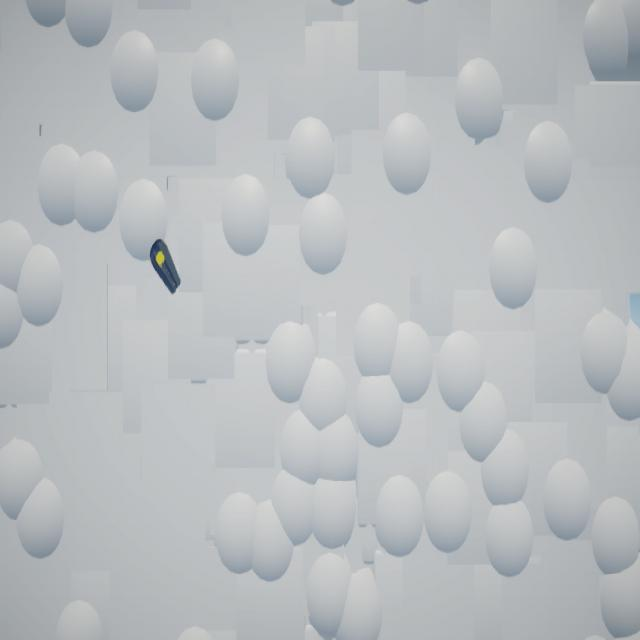handle_folk: (151, 240, 182, 297)
